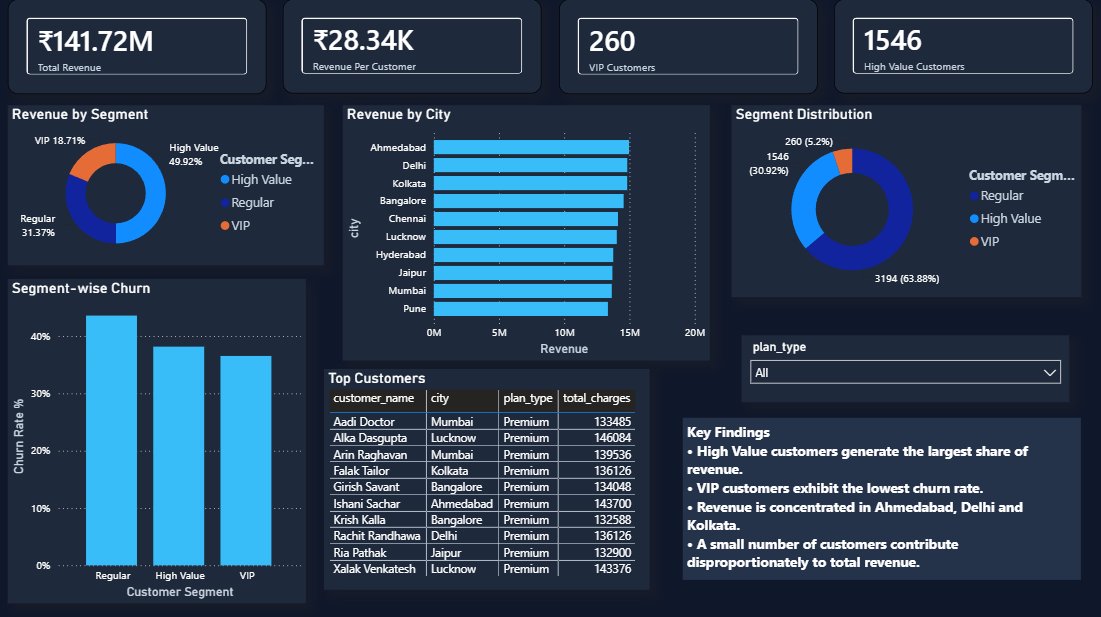

The page's visual inventory and layout, read from the dashboard file:
{"tool":"powerbi","page":{"name":"Customer Segmentation & Revenue Analysis","canvas":[1280,720],"ordinal":2},"visuals":[{"type":"cardVisual","fields":{"Data":["Measures .Total Revenue"]},"box":[10,0,300,110],"z":0},{"type":"cardVisual","fields":{"Data":["Measures .Revenue Per Customer"]},"box":[329.3,0,300,109.3],"z":1000},{"type":"cardVisual","fields":{"Data":["Measures .VIP Customers"]},"box":[648.7,0,300,110.7],"z":2000},{"type":"cardVisual","fields":{"Data":["Measures .High Value Customers"]},"box":[968,0,300,109.3],"z":3000},{"type":"donutChart","title":"Revenue by Segment","fields":{"Category":["customers.Customer Segment"],"Y":["Sum(customers.total_charges)"]},"box":[10.7,122.7,366.7,185.3],"z":4000},{"type":"clusteredColumnChart","title":"Segment-wise Churn","fields":{"Category":["customers.Customer Segment"],"Y":["Measures .Churn Rate %"]},"box":[10.7,324,345.3,376],"z":4001},{"type":"clusteredBarChart","title":"Revenue by City","fields":{"Category":["customers.city"],"Y":["Sum(customers.total_charges)"]},"box":[398.7,122.7,425.3,296],"z":4002},{"type":"tableEx","title":"Top Customers","fields":{"Values":["customers.customer_name","customers.city","customers.plan_type","customers.total_charges"]},"box":[377.3,429.3,377.3,256],"z":4003},{"type":"donutChart","title":"Segment Distribution","fields":{"Category":["customers.Customer Segment"],"Y":["CountNonNull(customers.customer_id)"]},"box":[849.3,122.7,405.3,222.7],"z":4004},{"type":"slicer","fields":{"Values":["customers.plan_type"]},"box":[861.3,389.3,380,77.3],"z":4005},{"type":"textbox","box":[793.3,485.3,461.3,188],"z":4006}]}

Visuals, with their boxes in screenshot pixels (x1, y1, x2, y2), scaled from the page's 1280x720 canvas onto the 1101x617 screenshot:
cardVisual - Measures .Total Revenue: BBox(9, 0, 267, 94)
cardVisual - Measures .Revenue Per Customer: BBox(283, 0, 541, 94)
cardVisual - Measures .VIP Customers: BBox(558, 0, 816, 95)
cardVisual - Measures .High Value Customers: BBox(833, 0, 1091, 94)
"Revenue by Segment" donutChart: BBox(9, 105, 325, 264)
"Segment-wise Churn" clusteredColumnChart: BBox(9, 278, 306, 600)
"Revenue by City" clusteredBarChart: BBox(343, 105, 709, 359)
"Top Customers" tableEx: BBox(325, 368, 649, 587)
"Segment Distribution" donutChart: BBox(731, 105, 1079, 296)
slicer - customers.plan_type: BBox(741, 334, 1068, 400)
textbox: BBox(682, 416, 1079, 577)
